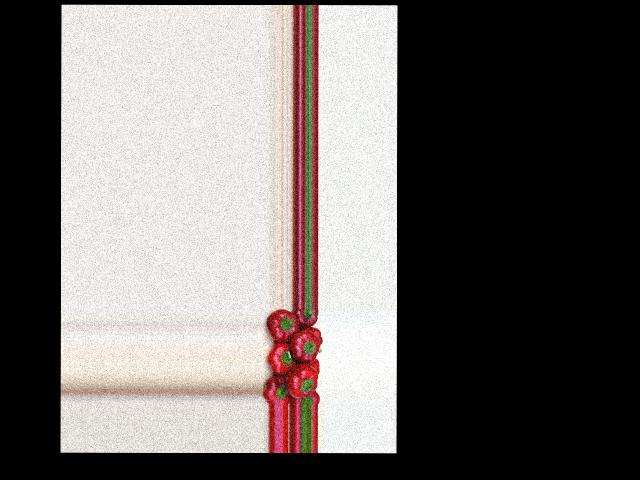bell_pepper: (307, 358, 321, 371)
